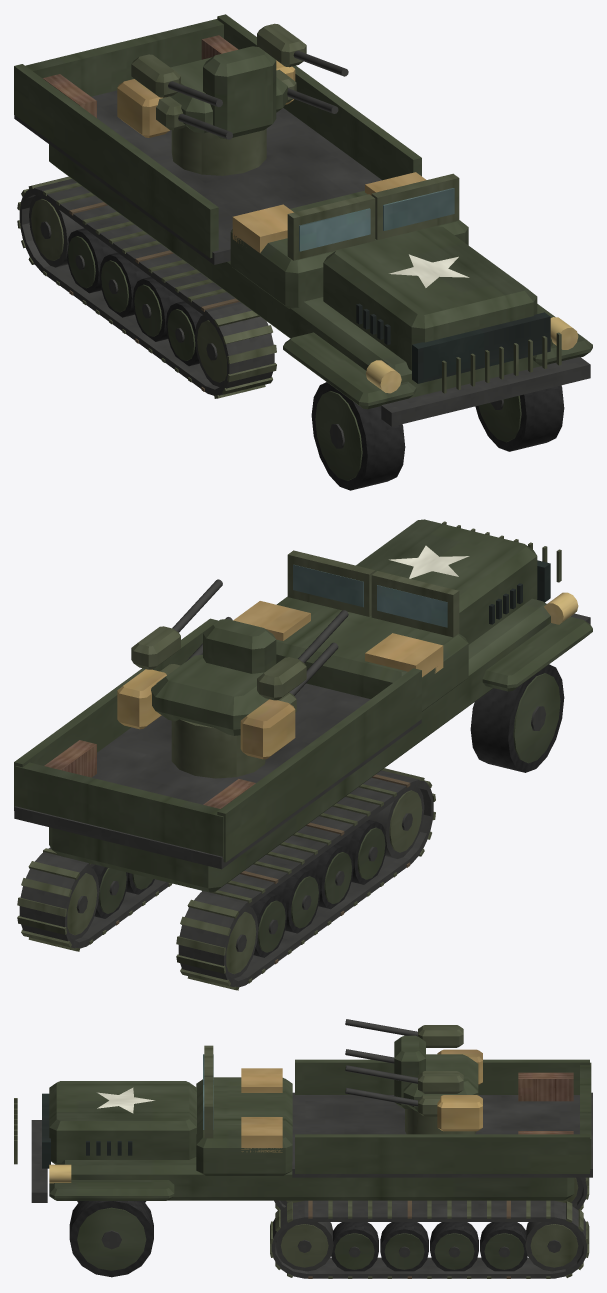
Rendered from m16-mgmc.glb.
3 renders of one model, top to bottom at view 1: azimuth 30°, elevation 25°; view 2: azimuth 150°, elevation 25°; view 3: azimuth 270°, elevation 25°, orthographic. The views are drawn at different scales.
Visible parts, largest first — view 1: M16 MGMC; view 2: M16 MGMC; view 3: M16 MGMC.
Boxes of the visible parts, x1,y1,x2,y2 form: M16 MGMC: [14, 14, 592, 490]; M16 MGMC: [14, 519, 592, 990]; M16 MGMC: [14, 1019, 592, 1278].
Bounding box in the file's own units: 2.31 × 2.49 × 6.58.
1 material, 1 textured.
